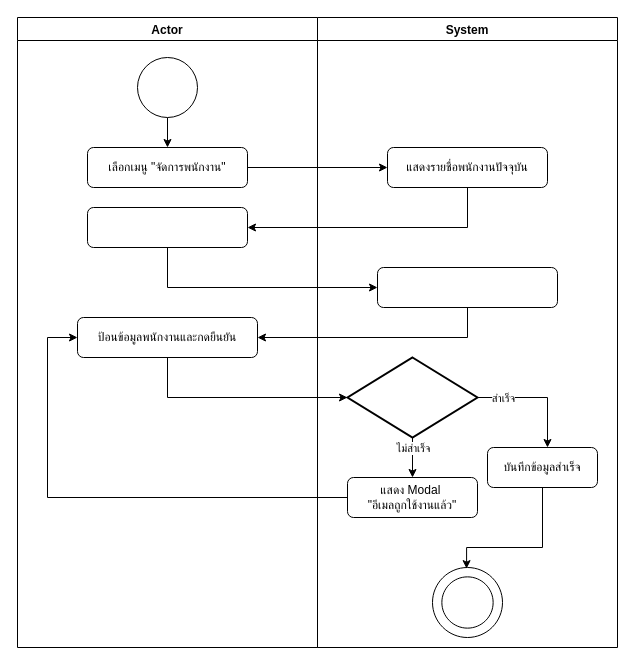
Some shapes in this 635 by 665 pixel diagram are drawn without their labels. The shapes that lost their labels are listed below. From the top down, each one's box as (x1, y1, x2, y2) in pixels, then its label:
(86, 206, 248, 248): กดปุ่ม "เพิ่มบัญชีพนักงานใหม่"
(376, 266, 558, 308): แสดงฟอร์มสำหรับกรอกข้อมูล
(346, 356, 478, 438): ตรวจสอบข้อมูล และอีเมลซ้ำ
